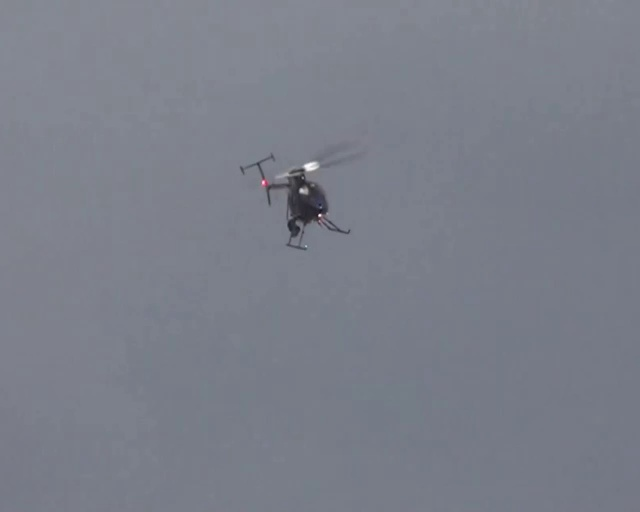HELICOPTER: (238, 138, 368, 250)
